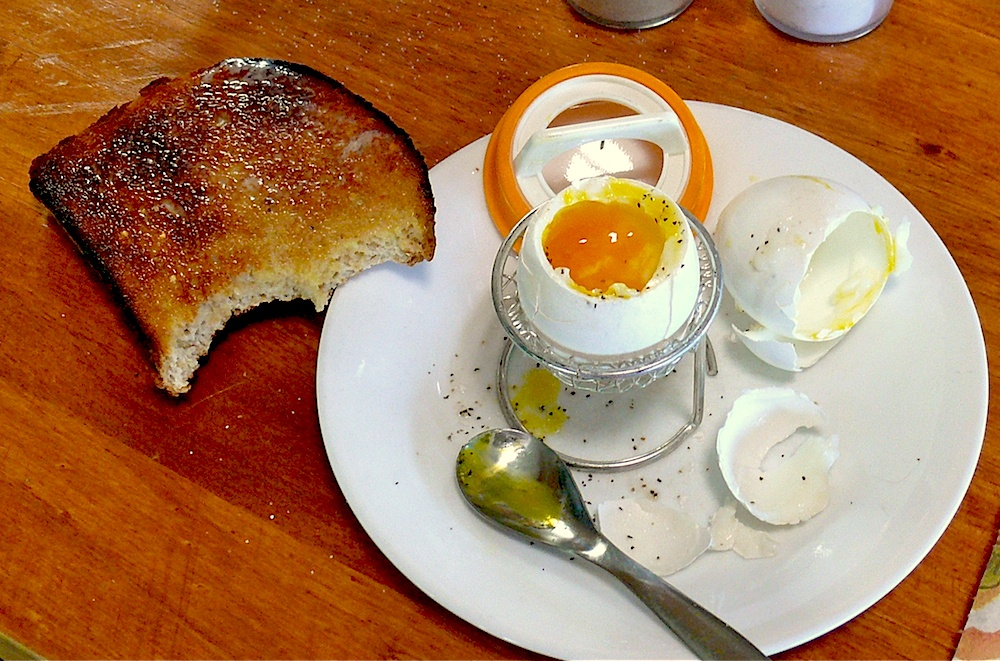background: (42, 58, 681, 412), (286, 181, 1000, 367)
